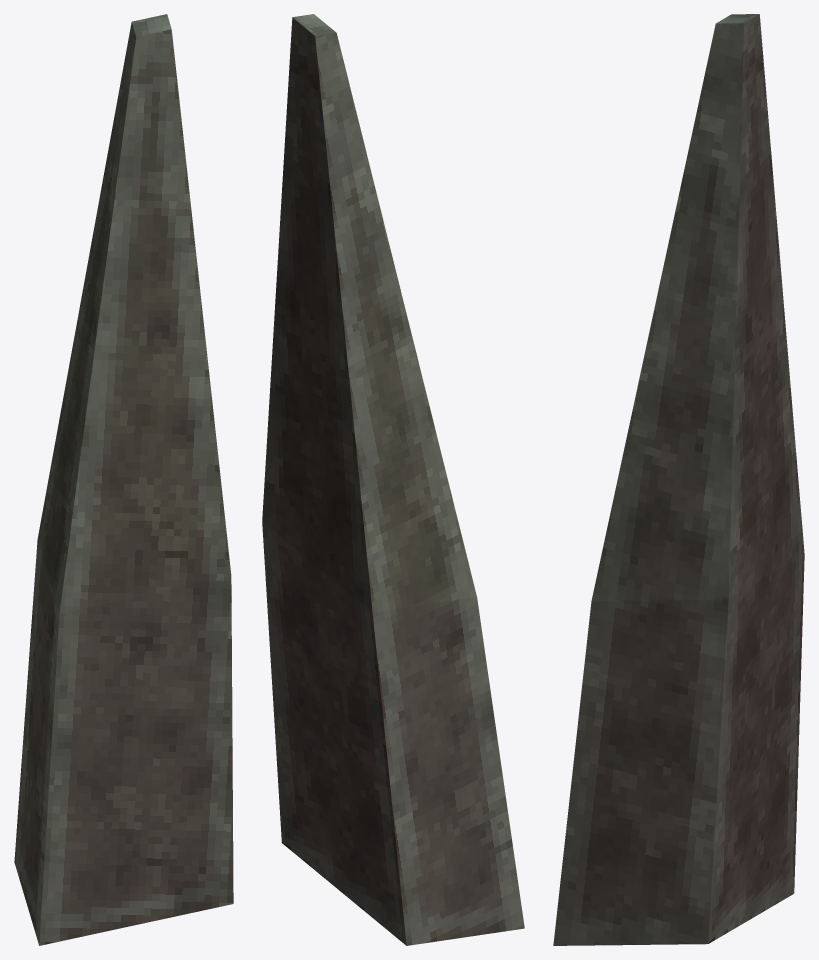
The model's file is spike-variant-1.glb.
3 renders of one model, left to right at view 1: azimuth 30°, elevation 25°; view 2: azimuth 150°, elevation 25°; view 3: azimuth 270°, elevation 25°, orthographic. The views are drawn at different scales.
Visible parts, largest first — view 1: Spike_Variant_1; view 2: Spike_Variant_1; view 3: Spike_Variant_1.
Part boxes in pixels (box(x1,y1,x2,y2)): Spike_Variant_1: box(14, 14, 233, 945); Spike_Variant_1: box(262, 14, 524, 945); Spike_Variant_1: box(553, 14, 804, 945).
Size of the model in its own units: 0.3804 by 1.48 by 0.3489.
1 material, 1 textured.
